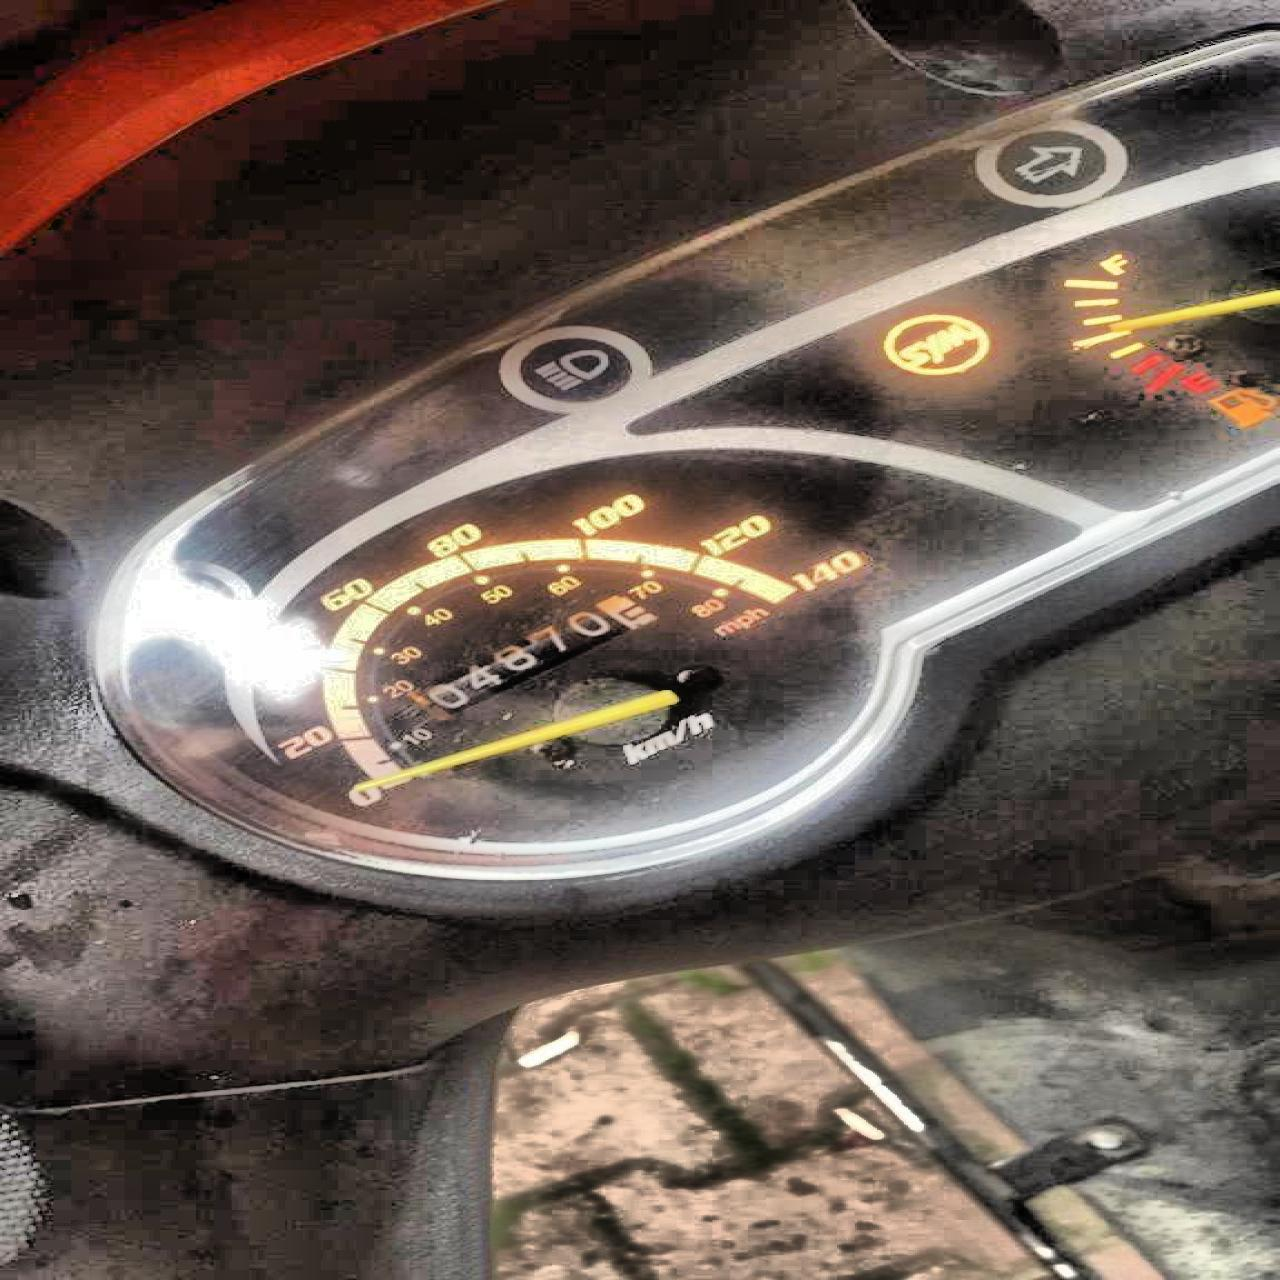0: (561, 608, 607, 638), (423, 682, 470, 708), (430, 606, 452, 619), (401, 645, 421, 656), (394, 679, 414, 690)
3: (388, 653, 408, 662)
4: (461, 662, 501, 688), (421, 613, 441, 625)
5: (614, 602, 656, 626), (478, 588, 501, 602)
7: (522, 624, 567, 652), (627, 585, 646, 599)
8: (490, 644, 538, 672)
odometer: (399, 591, 668, 712)
